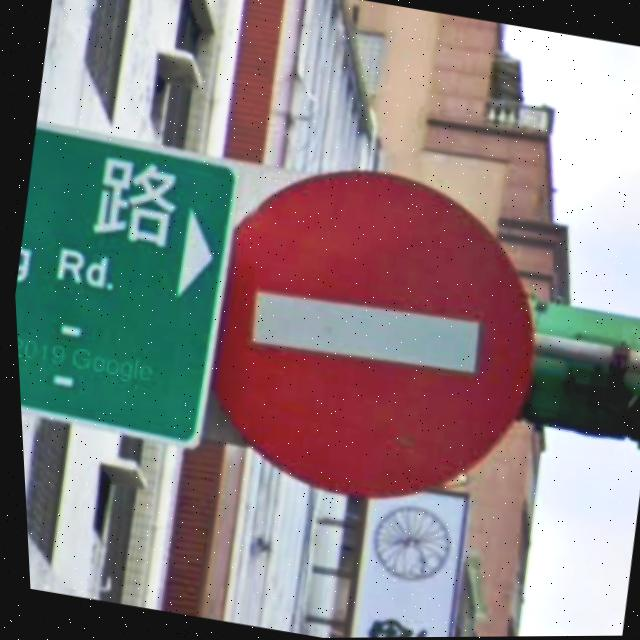noentry: (179, 143, 568, 527)
